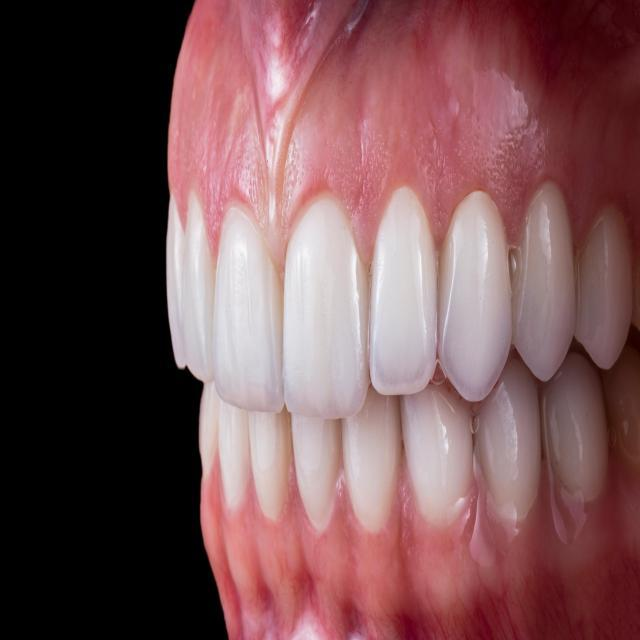tooth: (283, 190, 370, 420), (438, 189, 513, 402), (212, 207, 285, 413), (370, 185, 438, 396), (510, 181, 577, 384), (473, 354, 542, 519), (539, 351, 609, 499), (399, 384, 473, 523), (574, 200, 634, 370), (341, 385, 403, 531), (291, 413, 341, 526), (248, 403, 290, 518), (218, 399, 251, 509)
